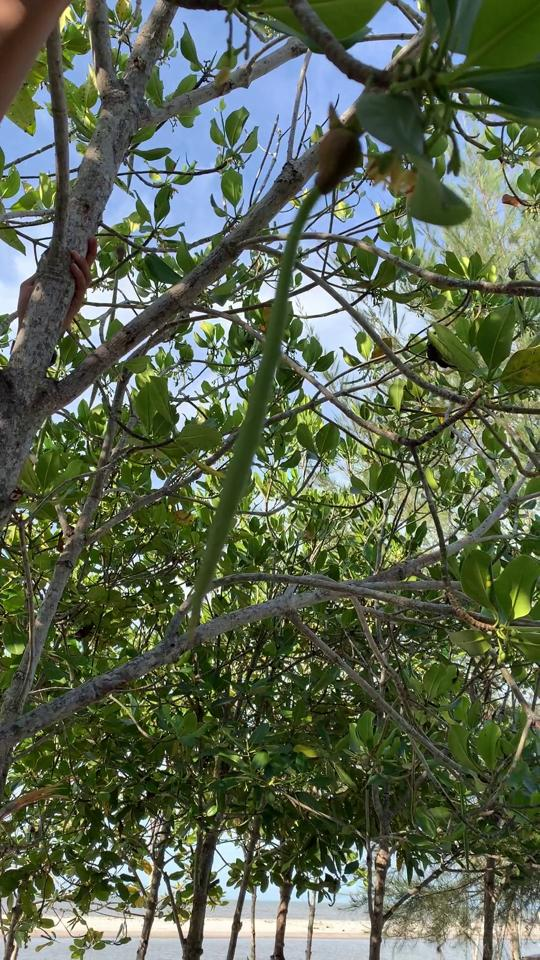mentah: (172, 99, 382, 655)
